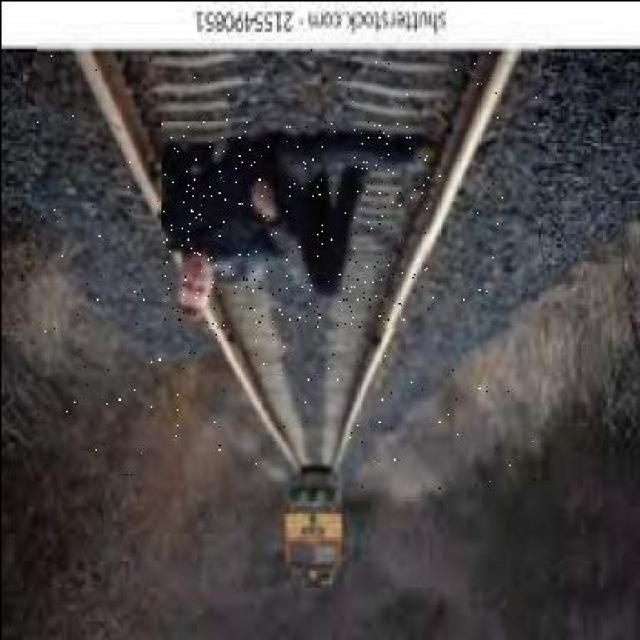rail: (36, 44, 536, 490)
